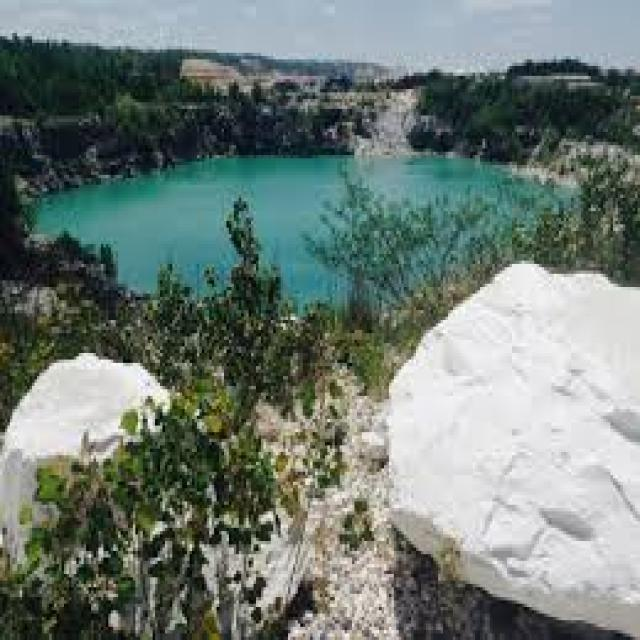Metamorphic: (384, 204, 638, 634), (2, 323, 207, 571)
